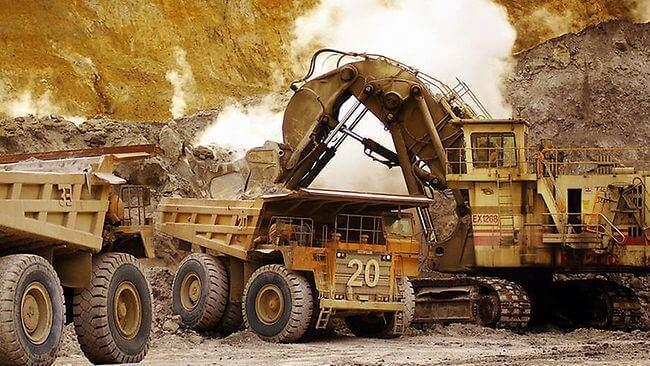ExcavationMachinery: (203, 45, 649, 366), (154, 190, 433, 347), (1, 141, 158, 365)
